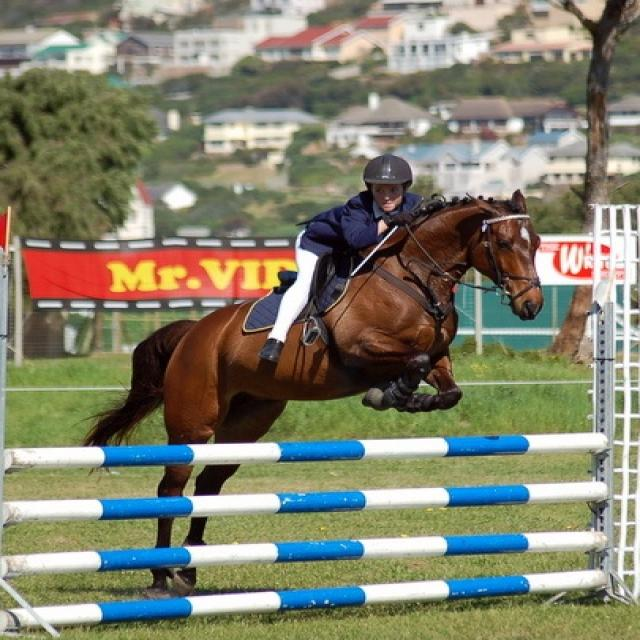horse: (94, 189, 548, 599)
